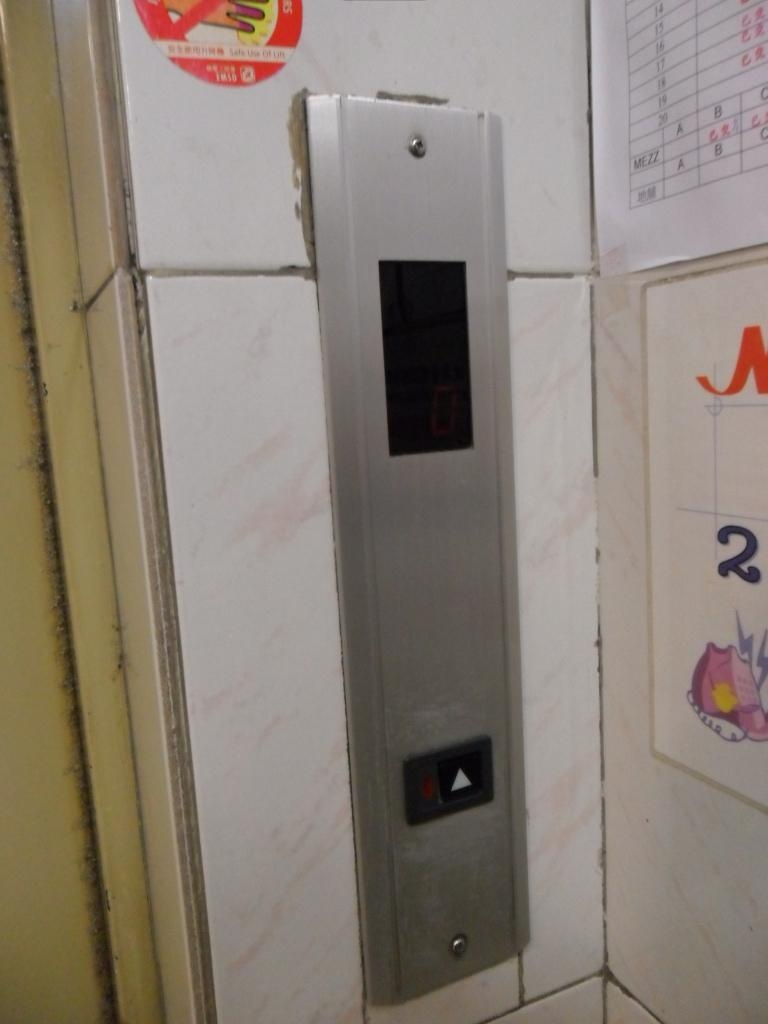led: (374, 255, 477, 463)
up: (396, 731, 500, 836)
